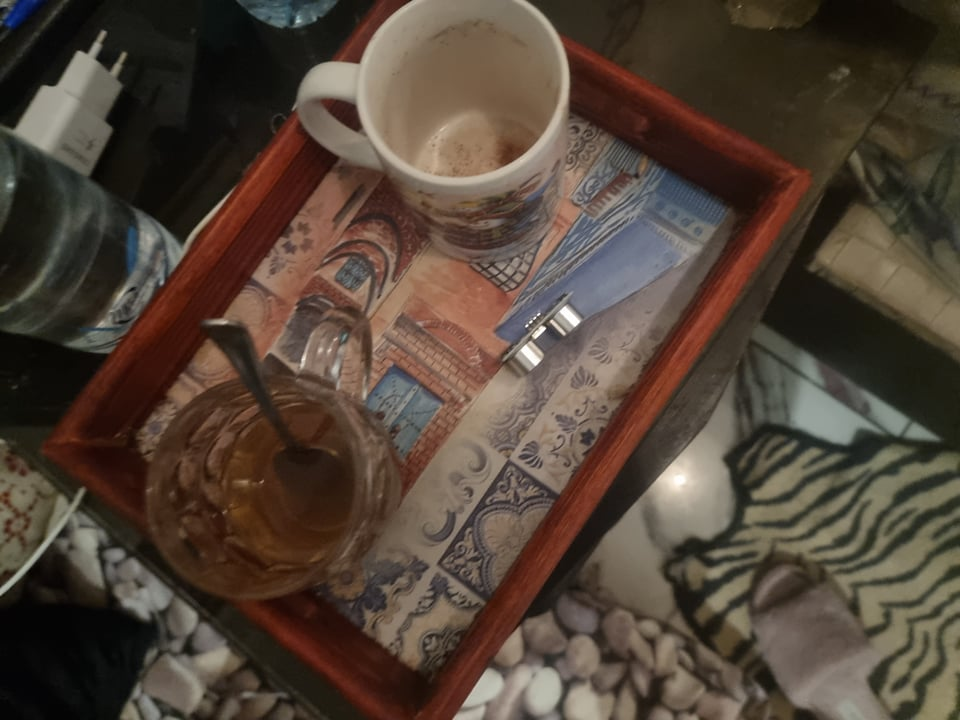SENSOR: (498, 291, 588, 383)
